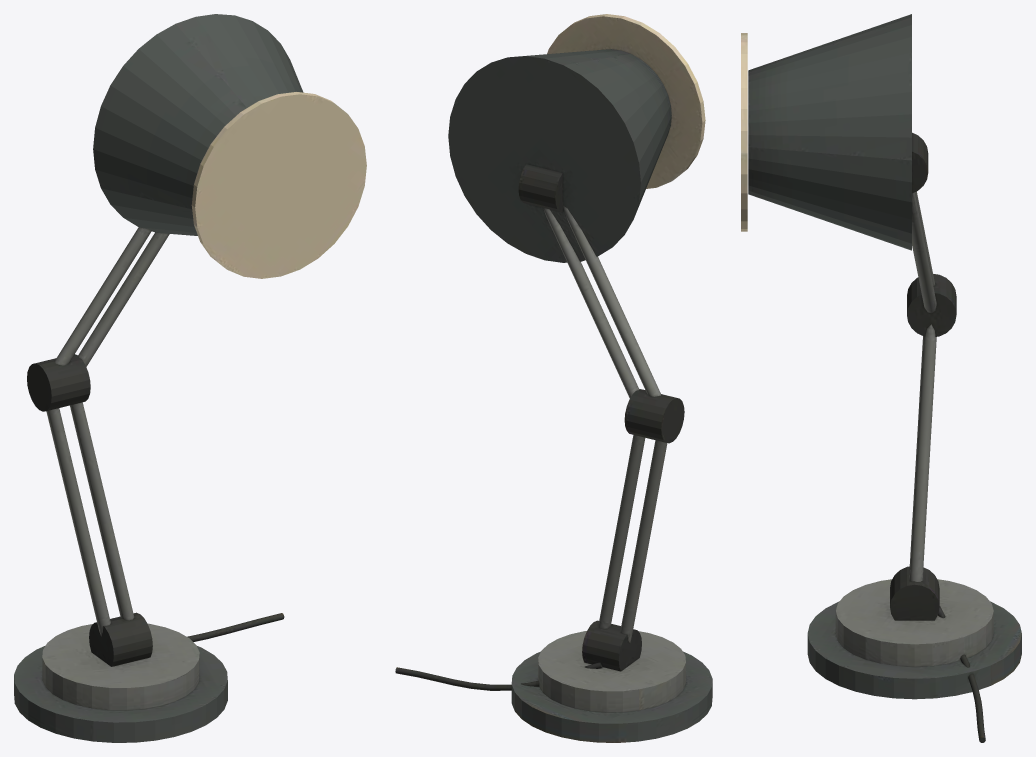
The model's file is dressing-desk-lamp.glb.
3 views of the same model, side by side, from view 1: azimuth 30°, elevation 25°; view 2: azimuth 150°, elevation 25°; view 3: azimuth 270°, elevation 25° (orthographic). The views are drawn at different scales.
Parts seen in each view (by area): view 1: case-baked; view 2: case-baked; view 3: case-baked.
Boxes of the visible parts, x1=… form: case-baked: x1=14, y1=14, x2=366, y2=742; case-baked: x1=395, y1=14, x2=712, y2=742; case-baked: x1=741, y1=14, x2=1021, y2=742.
Bounding box in the file's own units: 0.2953 × 0.65 × 0.249.
1 material, 1 textured.
